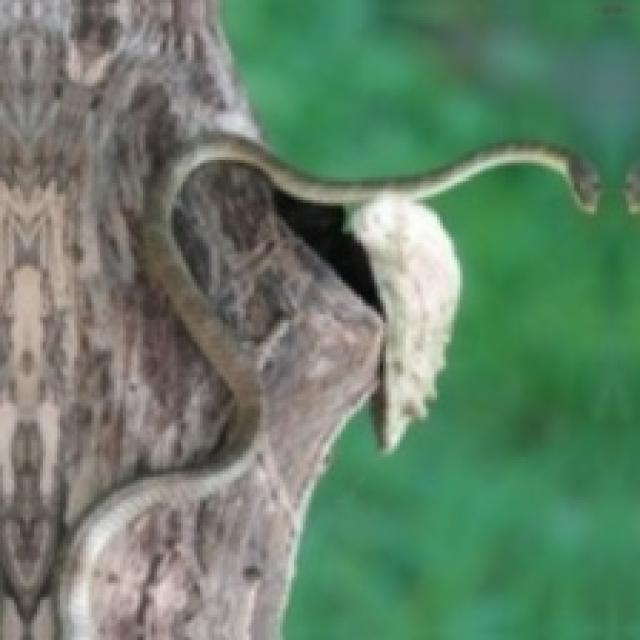paradise tree snake: (57, 134, 597, 637)
